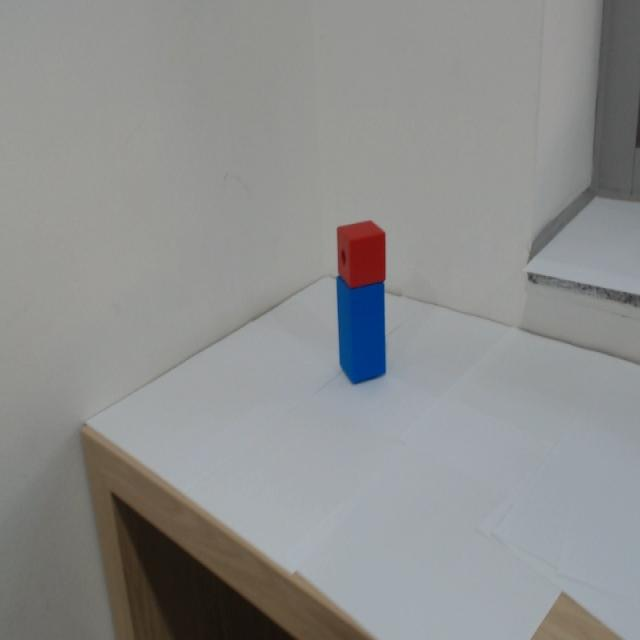cube: (334, 205, 410, 286)
